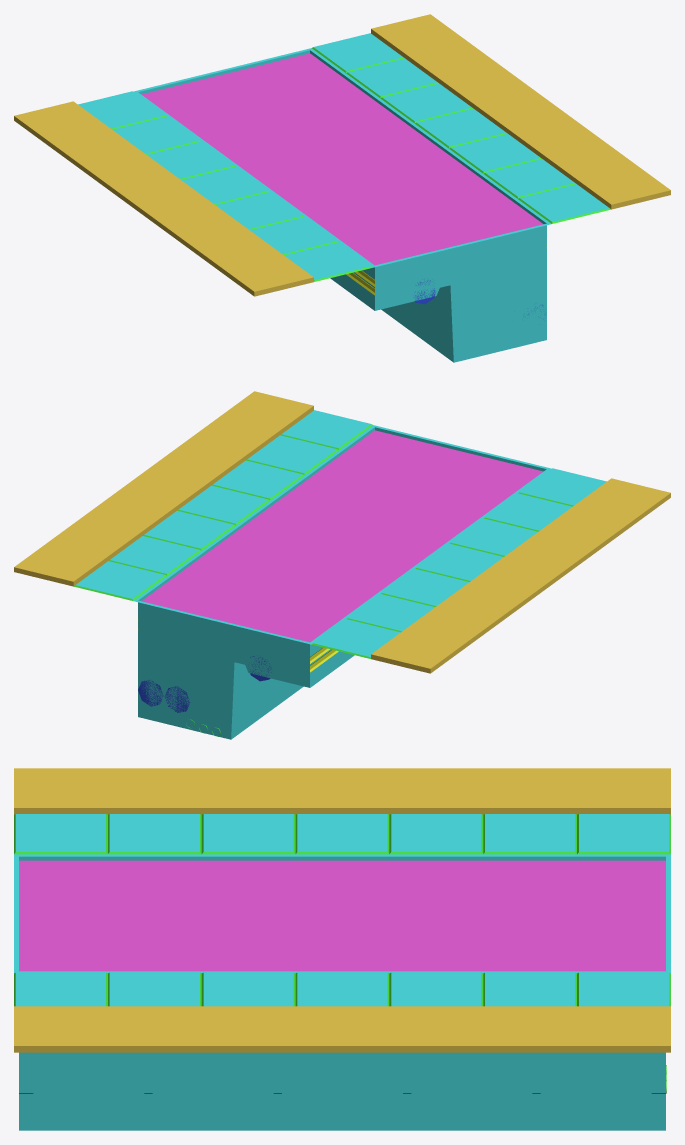
File: Floor_09_B.fbx
The picture shows the model from 3 angles, top to bottom: view 1: azimuth 30°, elevation 25°; view 2: azimuth 150°, elevation 25°; view 3: azimuth 270°, elevation 25°; orthographic projection. The views are drawn at different scales.
Visible parts, largest first — view 1: Floor_09_B; view 2: Floor_09_B; view 3: Floor_09_B.
Boxes of the visible parts, bbox=[...] form: Floor_09_B: bbox=[14, 14, 670, 362]; Floor_09_B: bbox=[14, 391, 670, 739]; Floor_09_B: bbox=[14, 768, 670, 1130].
Size of what is drawn, in the model's own units: 457 by 128 by 457.
